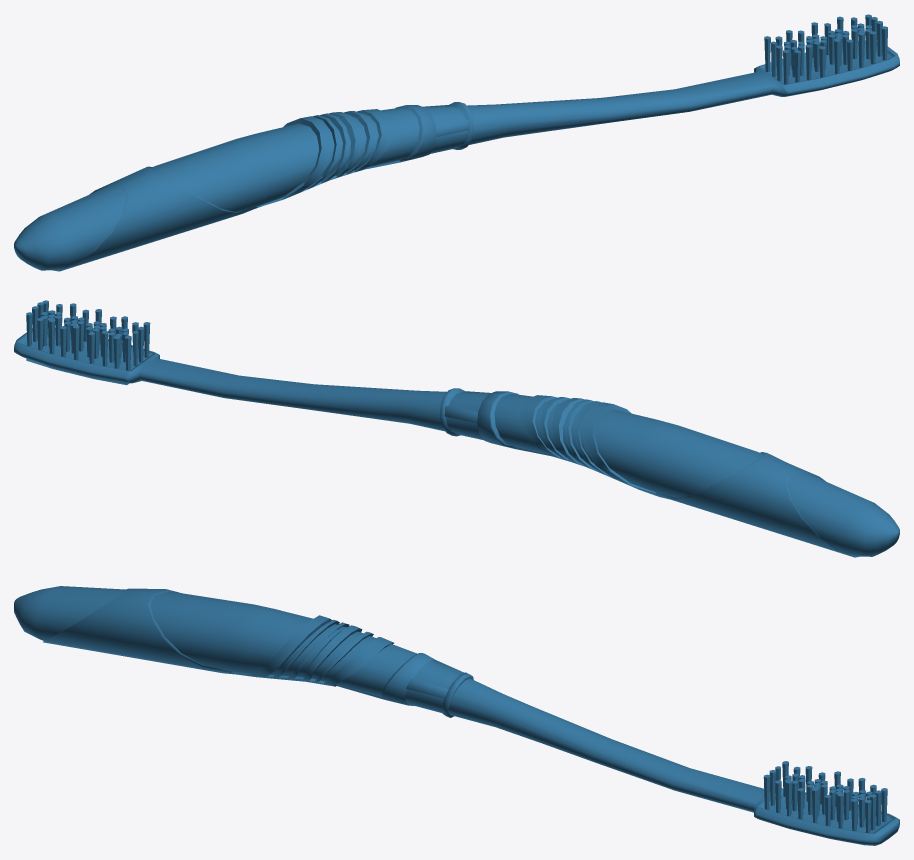
Rendered from tooth_brush.fbx.
The picture shows the model from 3 angles, top to bottom: view 1: azimuth 30°, elevation 25°; view 2: azimuth 150°, elevation 25°; view 3: azimuth 330°, elevation 25°; orthographic projection.
Parts seen in each view (by area): view 1: polySurface98; view 2: polySurface98; view 3: polySurface98.
Part boxes in pixels (x1,y1,x2,y2): polySurface98: [14, 14, 899, 271]; polySurface98: [14, 300, 899, 557]; polySurface98: [14, 586, 899, 845].
Bounding box in the file's own units: 0.4618 × 0.0419 × 0.0401.
